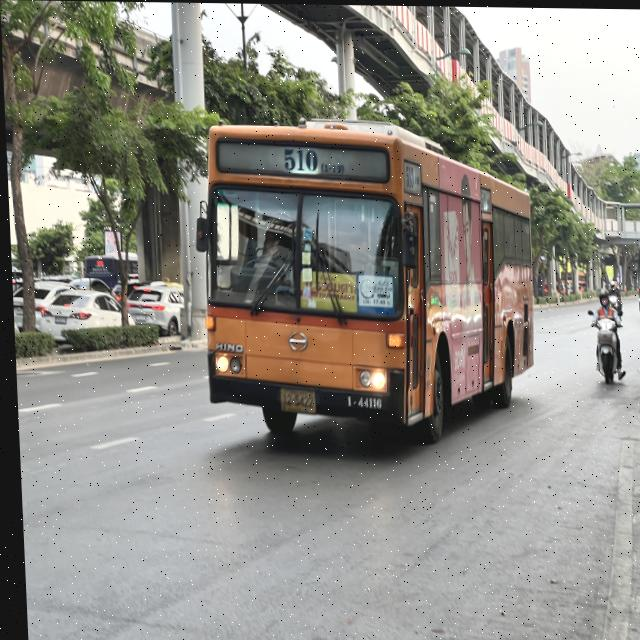BMTA-bus: (183, 101, 541, 457)
Bus Line Number: (278, 143, 348, 175)
Bus Side Number: (341, 391, 380, 412)
Destination Sign: (296, 268, 357, 314)
